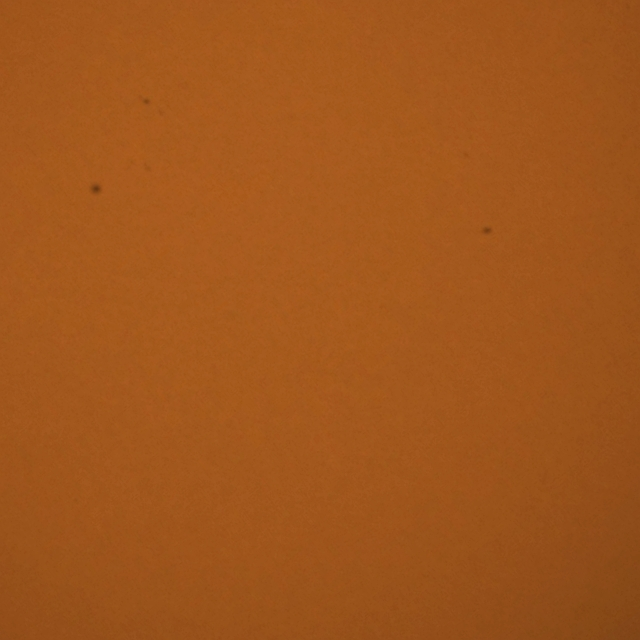sunspot: (89, 182, 103, 197), (480, 225, 494, 237), (141, 96, 151, 107)
